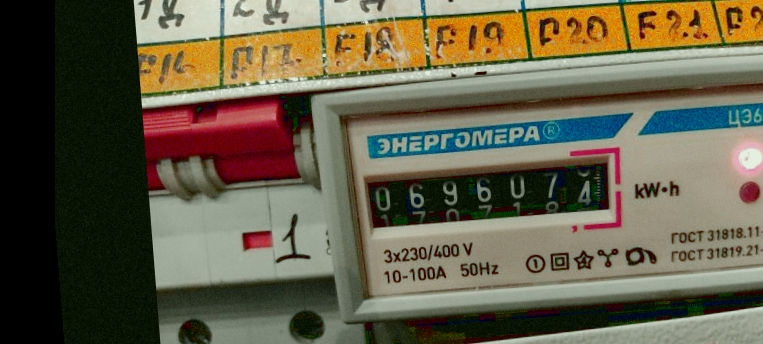0: (371, 183, 395, 213), (508, 170, 528, 200), (407, 181, 426, 208)
4: (575, 178, 594, 207)
6: (473, 172, 493, 204)
7: (541, 168, 561, 198)
9: (440, 177, 460, 206)
screen: (349, 142, 628, 247)
